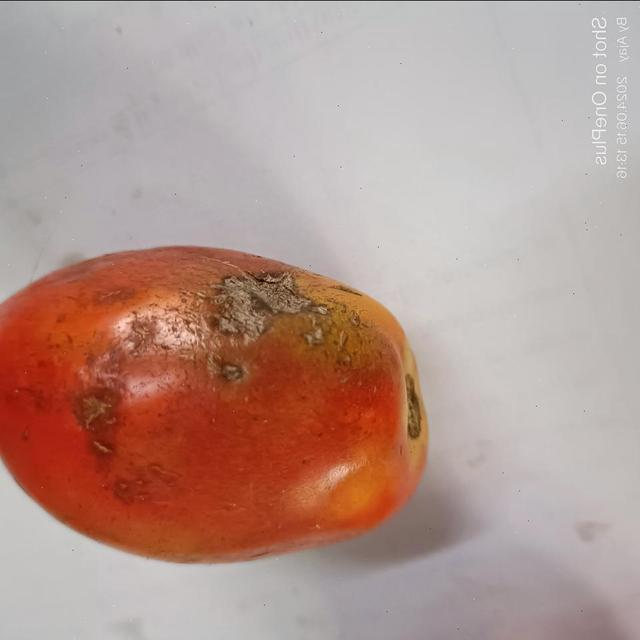Bacterial Spot Fruit: (20, 14, 178, 257)
